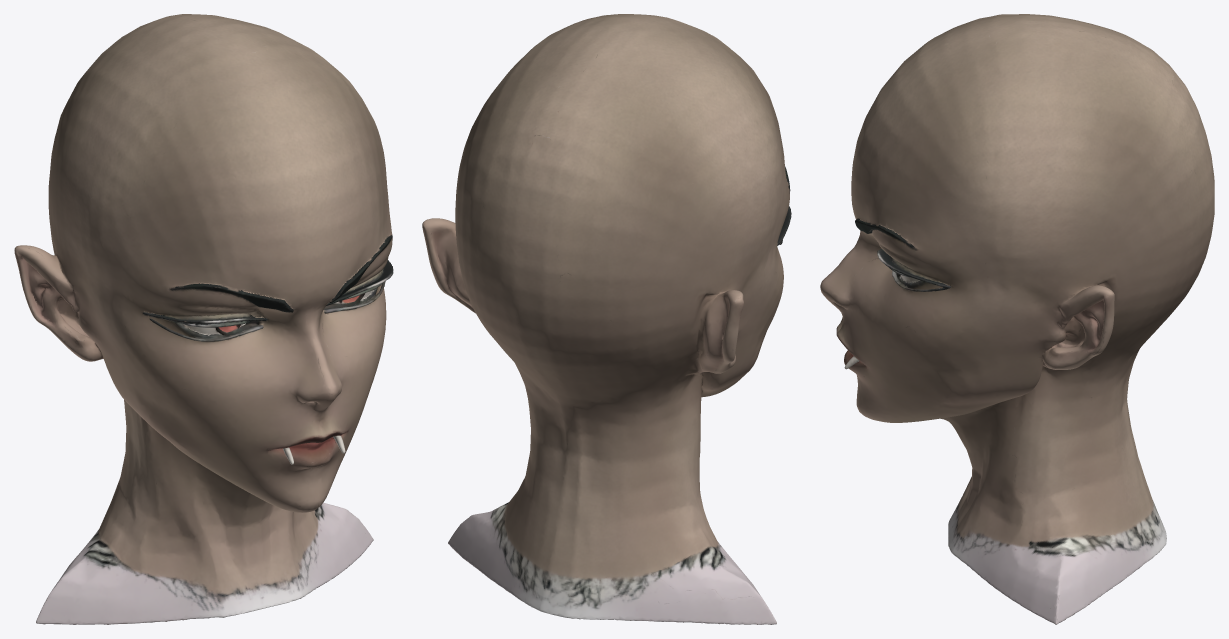
File: head7v2_s11_pixal3d.glb
The picture shows the model from 3 angles, left to right: view 1: azimuth 30°, elevation 25°; view 2: azimuth 150°, elevation 25°; view 3: azimuth 270°, elevation 25°; orthographic projection. The views are drawn at different scales.
Size of the model in its own units: 0.6288 by 0.9922 by 0.6781.
1 material, 1 textured.
